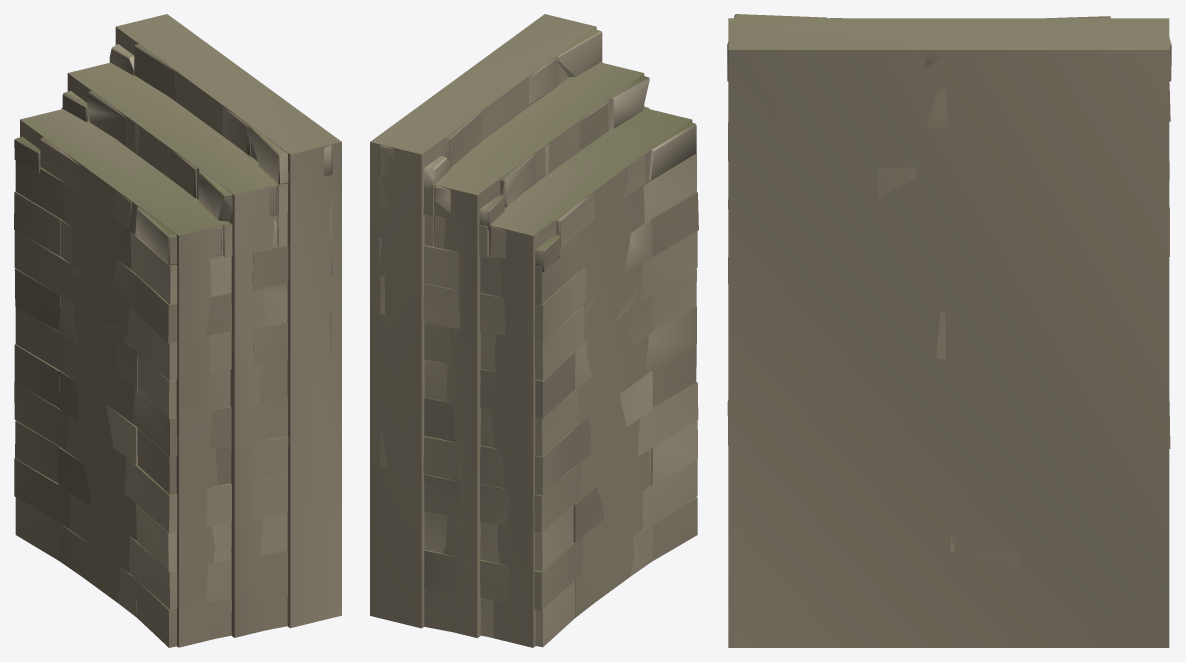
File: theatre_seat_4.glb
The picture shows the model from 3 angles, left to right: view 1: azimuth 30°, elevation 25°; view 2: azimuth 150°, elevation 25°; view 3: azimuth 270°, elevation 25°; orthographic projection. The views are drawn at different scales.
Parts seen in each view (by area): view 1: theatre_seat_4_far, theatre_seat_4; view 2: theatre_seat_4_far, theatre_seat_4; view 3: theatre_seat_4_far, theatre_seat_4.
Boxes of the visible parts, x1,y1,x2,y2 form: theatre_seat_4_far: (20,14,341,647); theatre_seat_4: (14,44,332,647); theatre_seat_4_far: (370,14,692,647); theatre_seat_4: (379,29,698,647); theatre_seat_4_far: (728,18,1169,647); theatre_seat_4: (727,14,1171,574).
Size of the model in its own units: 8.89 by 24.51 by 16.51.
